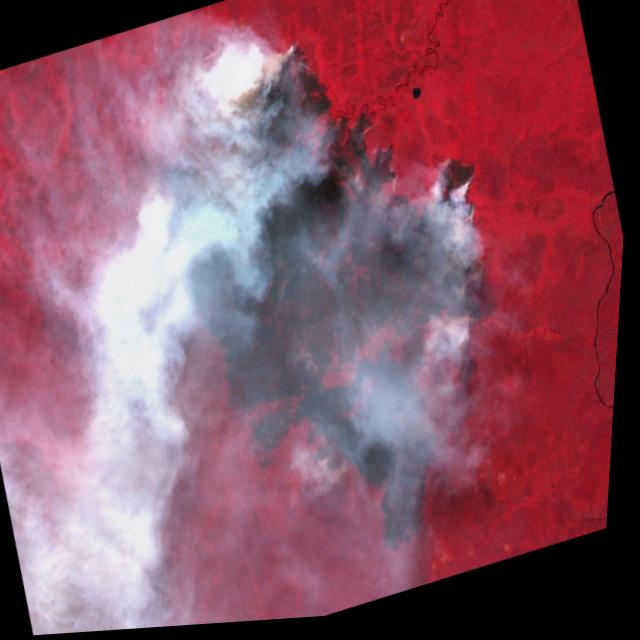fire: (103, 0, 557, 530)
